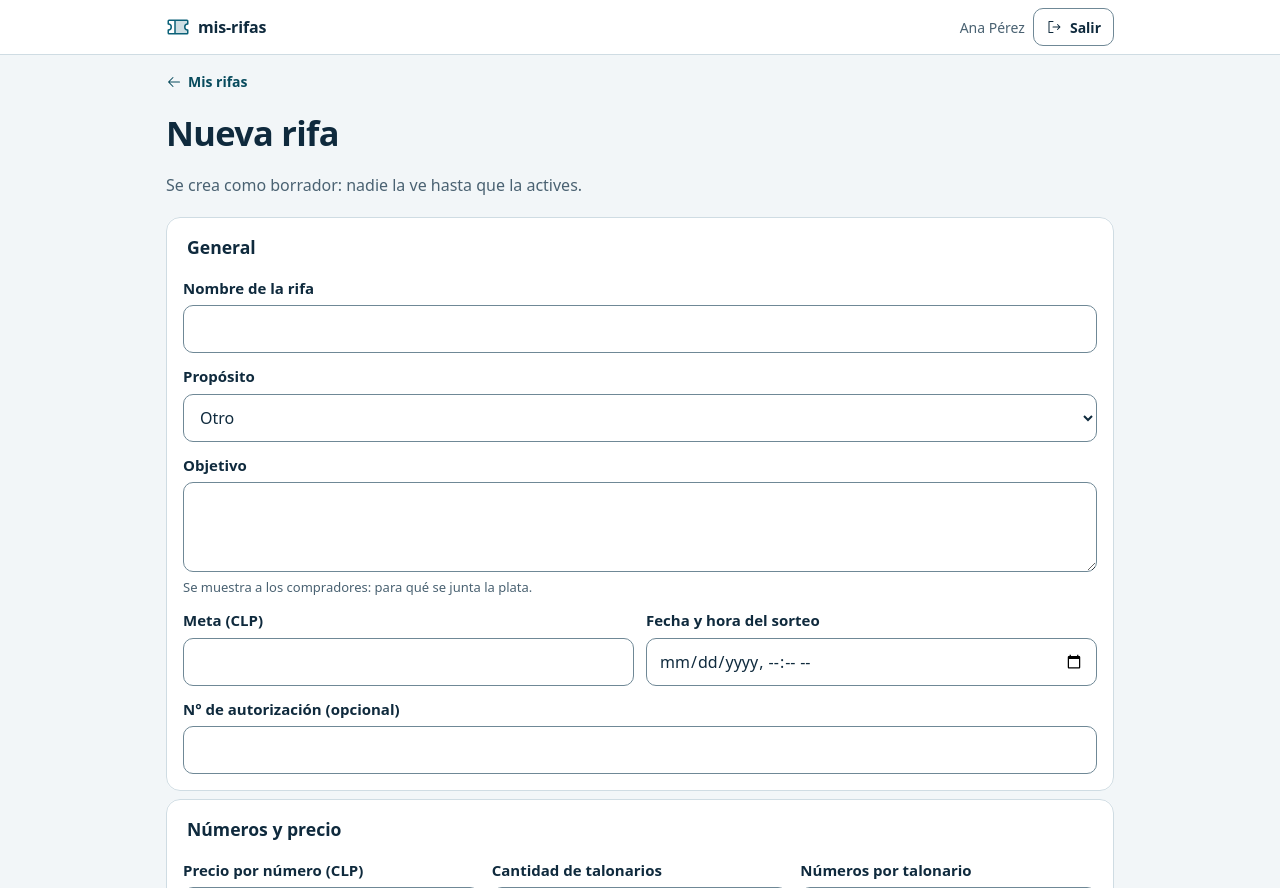
Scenario: crear rifa › envía los números como enteros, la fecha en ISO y los campos vacíos como null
Type "Rifa Viaje" into the field labelled "Nombre de la rifa".
click(640, 329); type("Rifa Viaje")  # box [183, 305, 1097, 353]
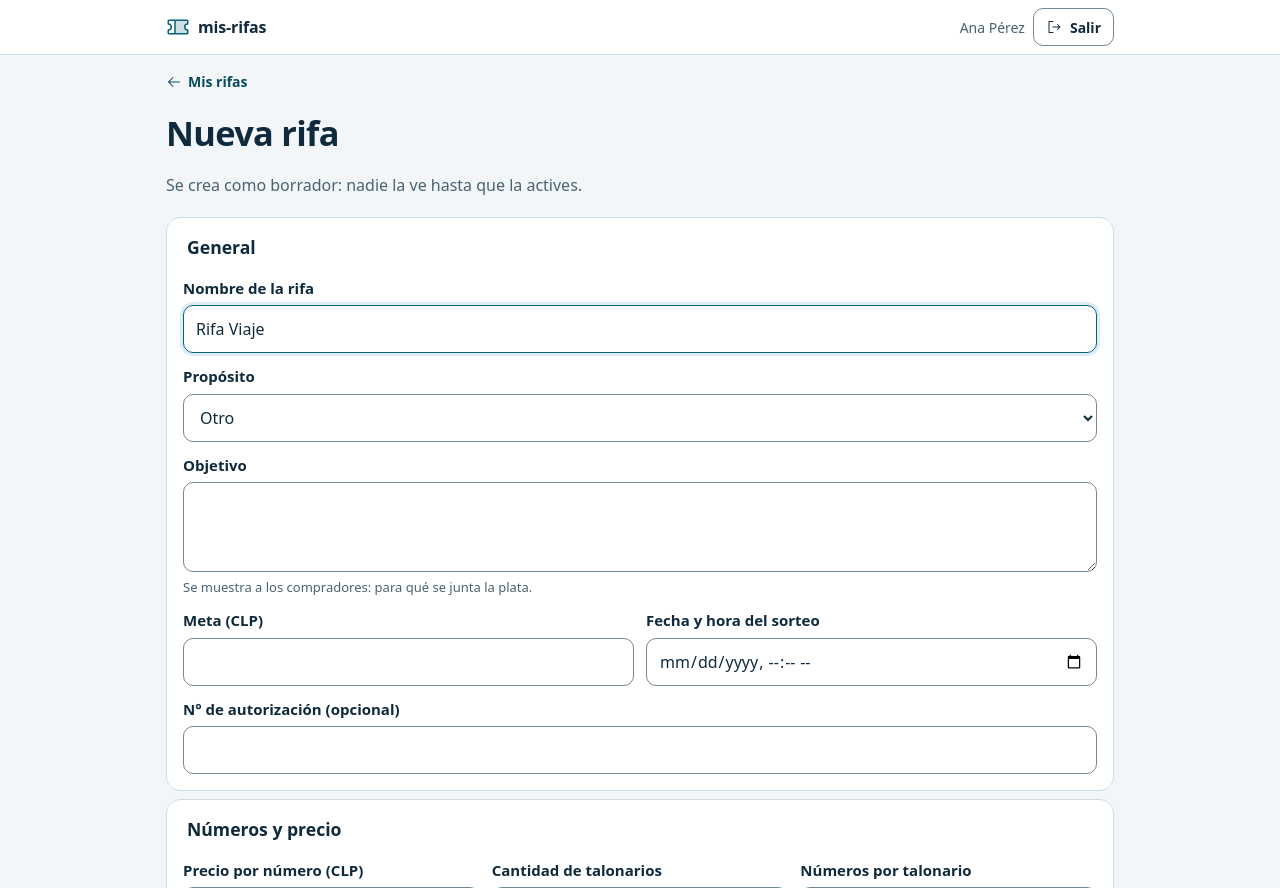
Type "100000" into the number field labelled "Meta (CLP)".
click(408, 662); type("100000")  # box [183, 638, 634, 686]
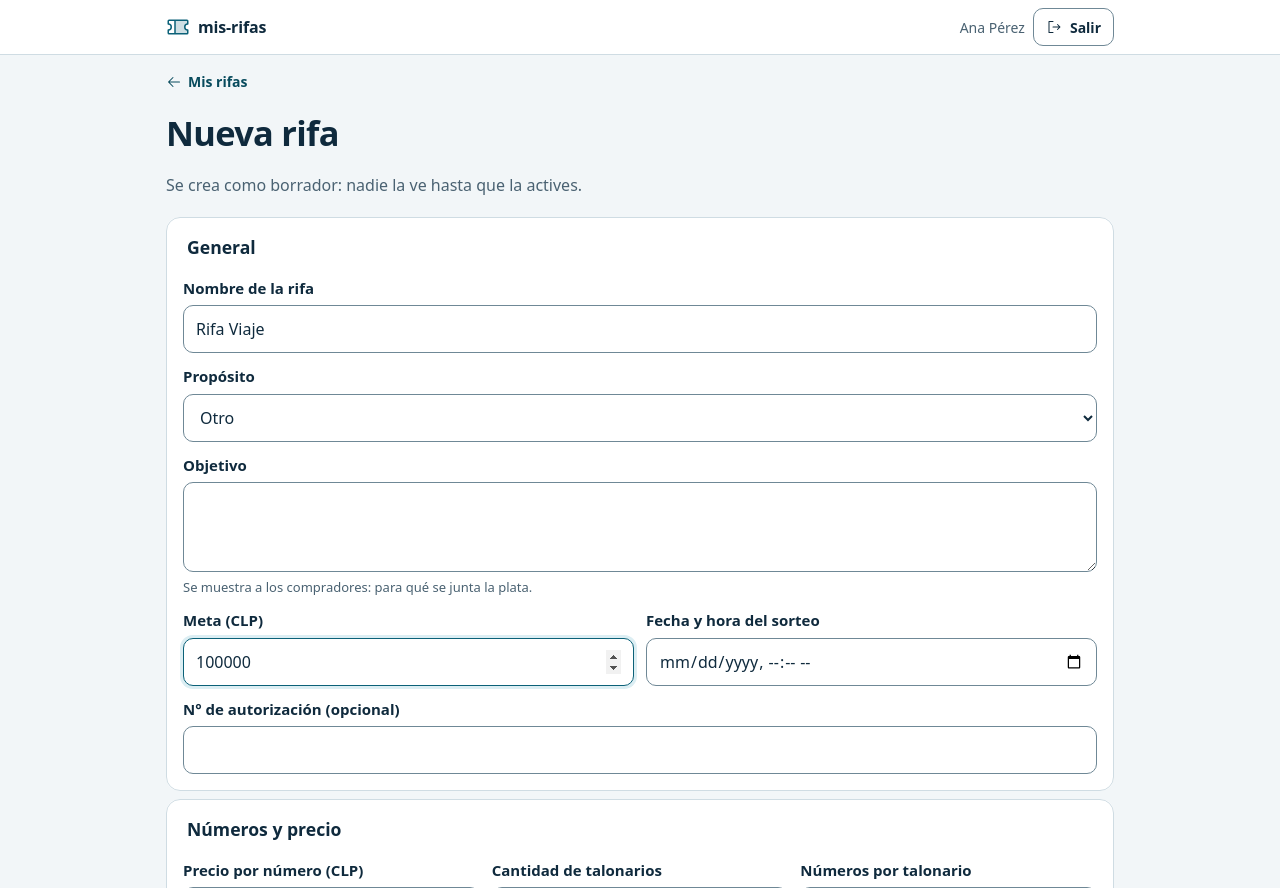
Type "2030-01-15T20:00" into the field labelled "Fecha y hora del sorteo".
click(872, 662); type("2030-01-15T20:00")  # box [646, 638, 1097, 686]
(page scrolled)
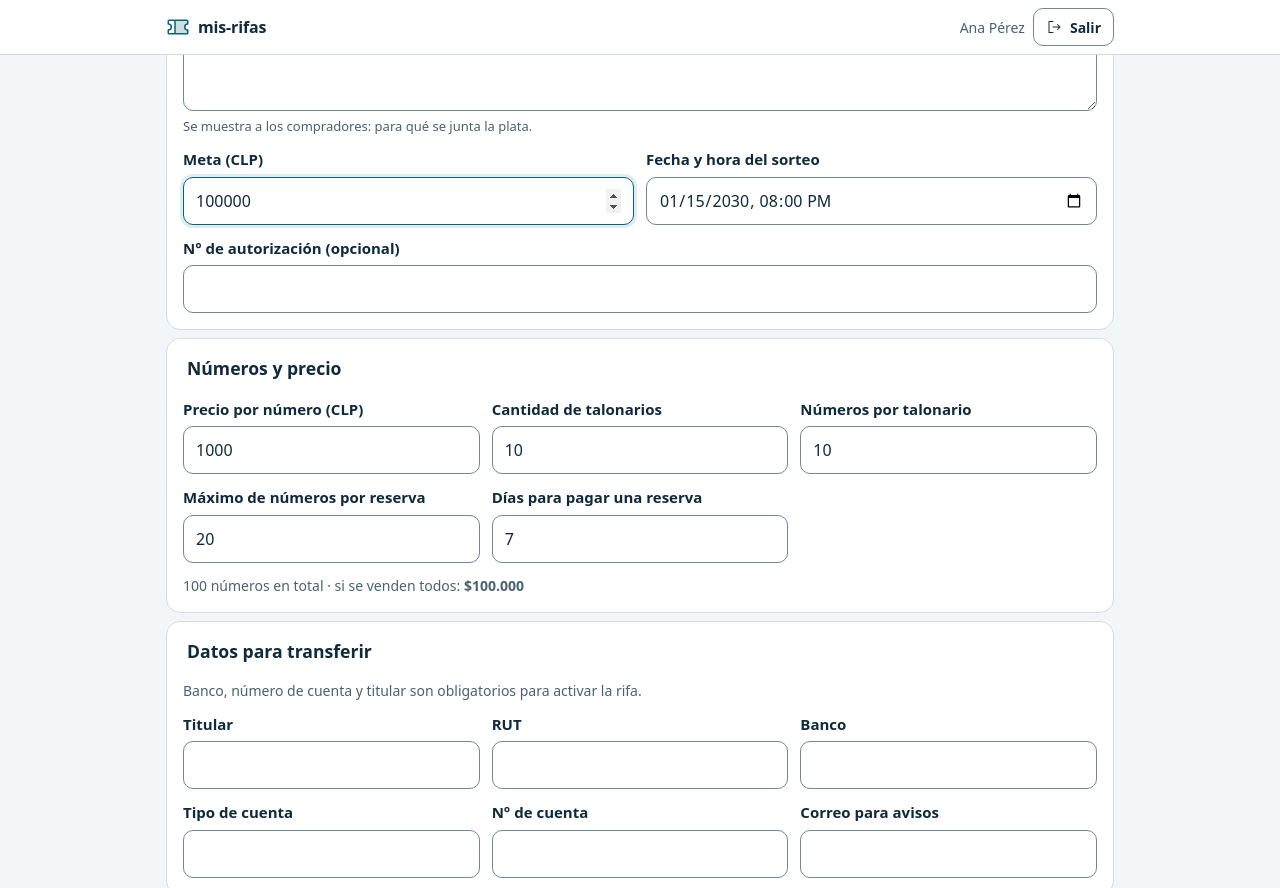
Replace the text in the number field labelled "Cantidad de talonarios" with "3" at (640, 450), box [492, 426, 788, 474]
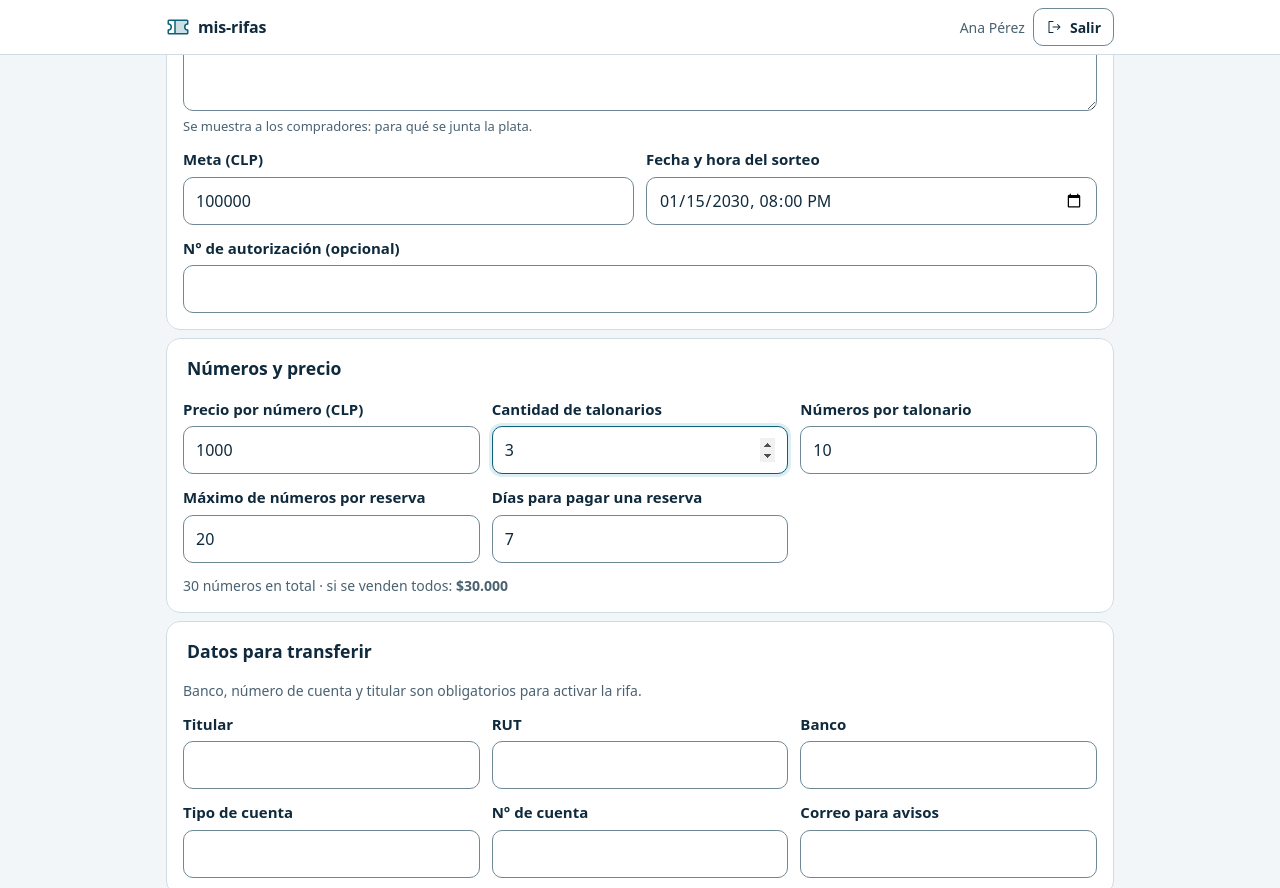
Type "Ana Pérez" into the field labelled "Titular".
click(331, 766); type("Ana Pérez")  # box [183, 742, 480, 790]
(page scrolled)
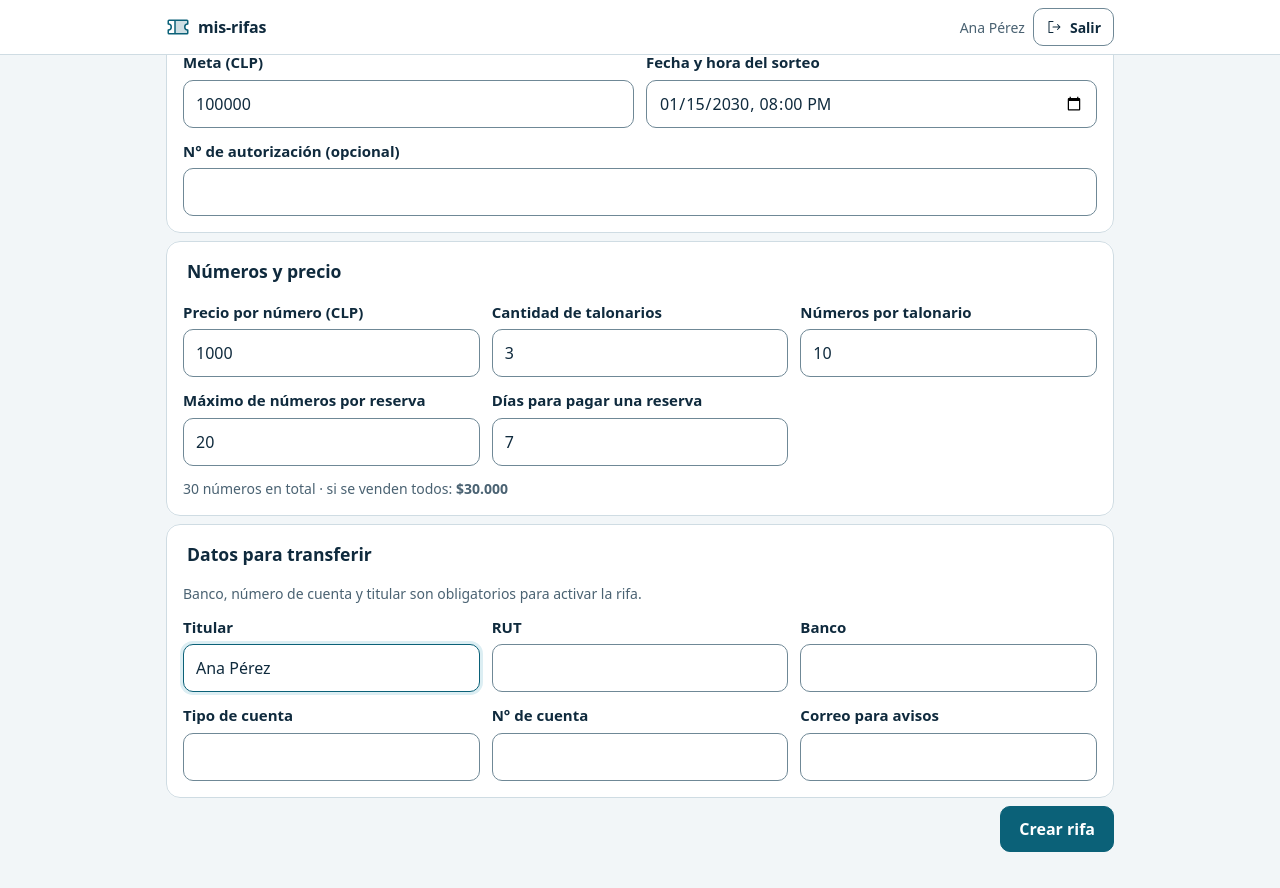
Expected: the text "30 números en total · si se venden todos: $30.000" is shown, [183, 479, 508, 498]
Click the button "Crear rifa".
click(1057, 829)  # box [1000, 806, 1114, 852]
(page scrolled)
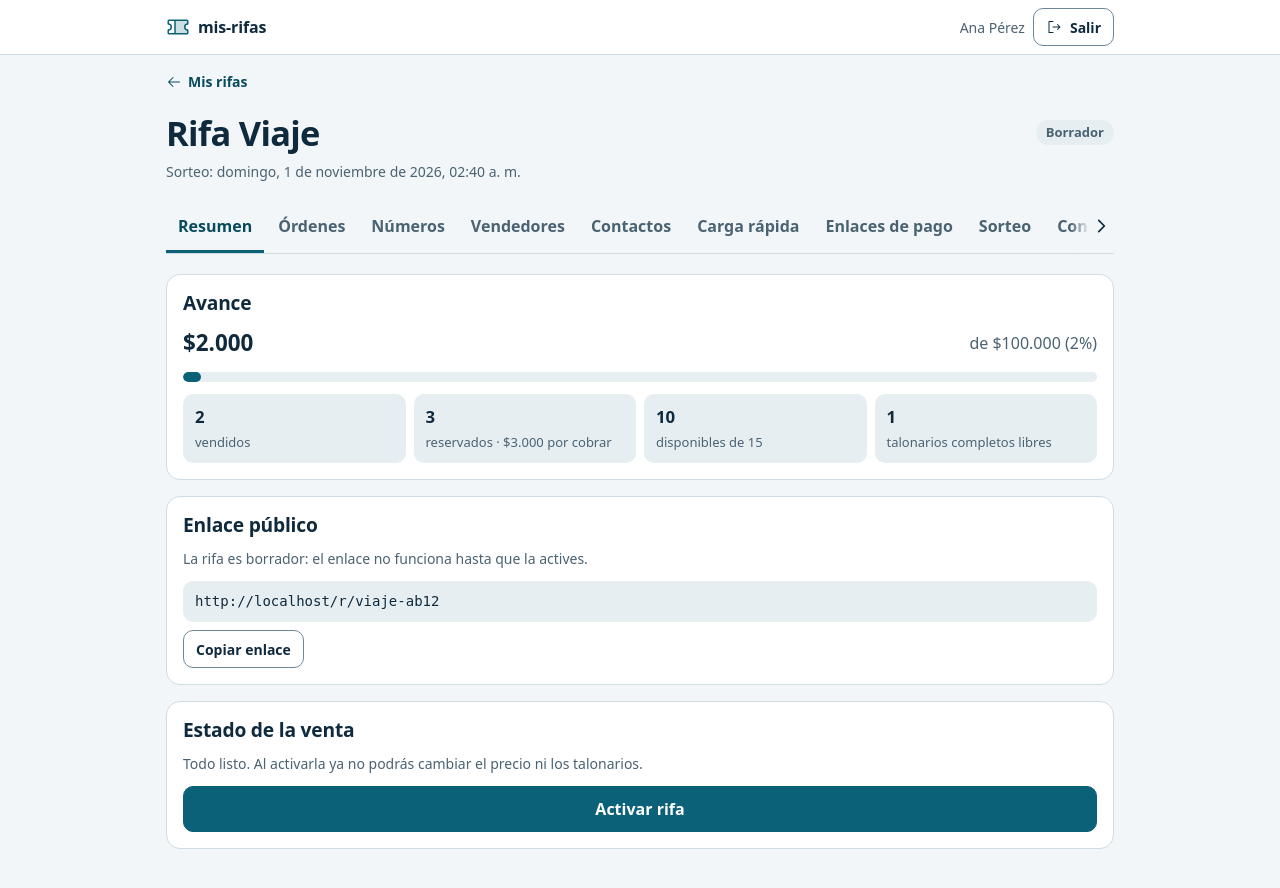
Expected: the heading "Rifa Viaje" is shown, [166, 112, 320, 153]
